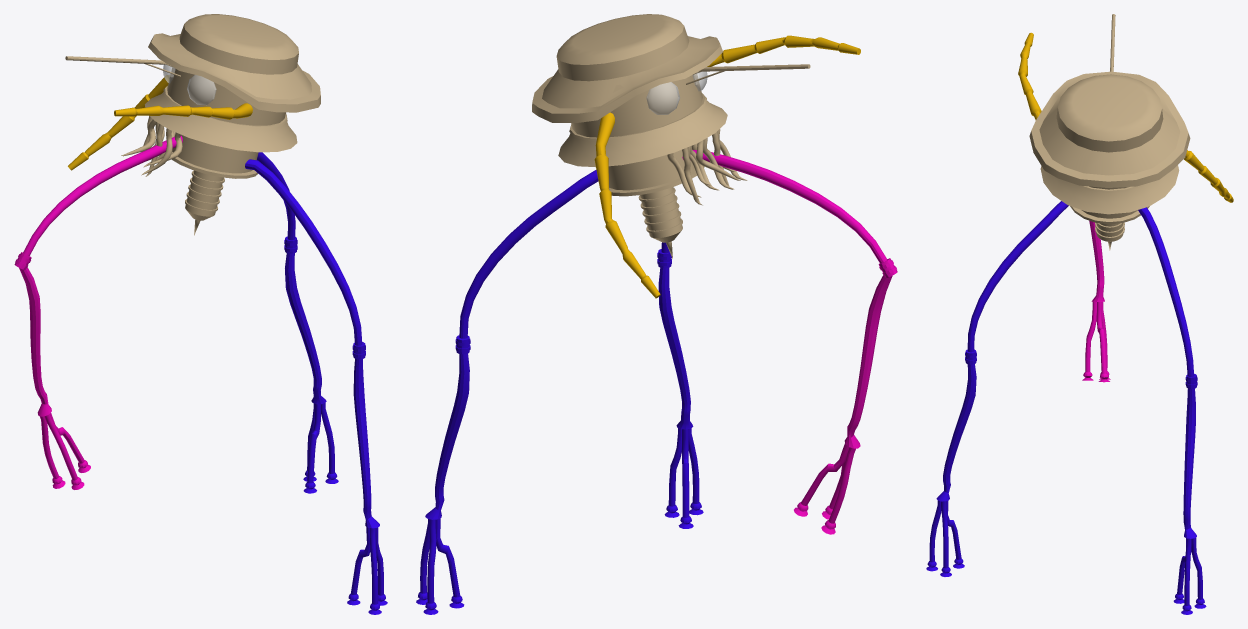
Rendered from Tripode.fbx.
3 views of the same model, side by side, from view 1: azimuth 30°, elevation 25°; view 2: azimuth 150°, elevation 25°; view 3: azimuth 270°, elevation 25° (orthographic). The views are drawn at different scales.
Parts seen in each view (by area): view 1: pCylinder344, pCylinder345, polySurface5, pCylinder346, pCylinder342, pCylinder343; view 2: pCylinder344, pCylinder346, polySurface5, pCylinder345, pCylinder343, pCylinder342; view 3: pCylinder344, pCylinder345, pCylinder346, polySurface5, pCylinder342, pCylinder343.
Part boxes in pixels (x1,y1,x2,y2): pCylinder344: (65,14,320,235); pCylinder345: (245,159,387,614); polySurface5: (14,135,182,489); pCylinder346: (257,152,338,493); pCylinder342: (114,103,252,119); pCylinder343: (68,75,169,170); pCylinder344: (532,14,810,258); pCylinder346: (416,170,598,614); polySurface5: (682,150,897,534); pCylinder345: (657,242,703,528); pCylinder343: (594,112,660,298); pCylinder342: (707,35,860,66); pCylinder344: (1029,14,1190,250); pCylinder345: (926,201,1068,576); pCylinder346: (1138,207,1206,614); polySurface5: (1082,220,1110,382); pCylinder342: (1018,32,1041,120); pCylinder343: (1184,150,1233,202).
Bounding box in the file's own units: 51.66 × 69.21 × 41.34.
